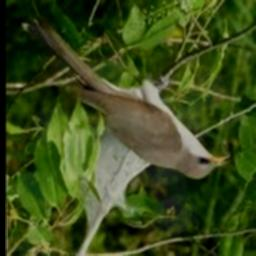Cuckoo: (28, 13, 232, 179)
